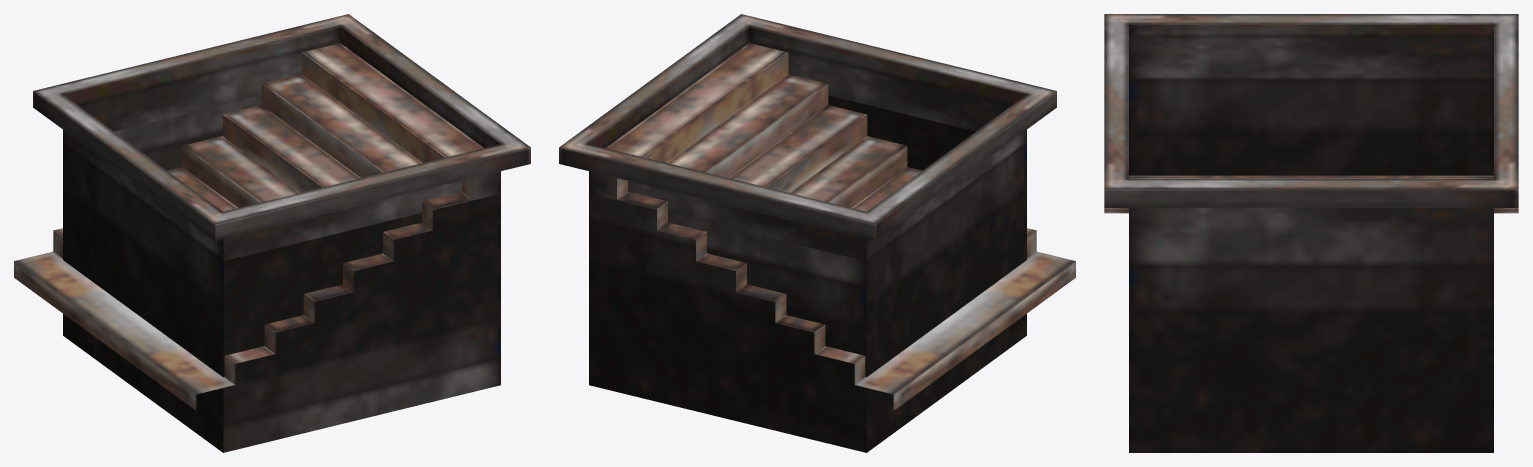
File: Poly_SF_Outside_B_Stairs_Down_01_Left.obj
3 renders of one model, left to right at view 1: azimuth 30°, elevation 25°; view 2: azimuth 150°, elevation 25°; view 3: azimuth 270°, elevation 25°, orthographic. The views are drawn at different scales.
Parts seen in each view (by area): view 1: Cube, Cube.003; view 2: Cube, Cube.003; view 3: Cube, Cube.003.
Part boxes in pixels (x1,y1,x2,y2): Cube: (33, 14, 530, 452); Cube.003: (14, 43, 483, 410); Cube: (559, 14, 1056, 452); Cube.003: (606, 43, 1075, 410); Cube: (1104, 14, 1518, 452); Cube.003: (1104, 175, 1518, 213).
Bounding box in the file's own units: 1.06 × 0.73 × 1.
Materials: 1 (1 with a texture image).
